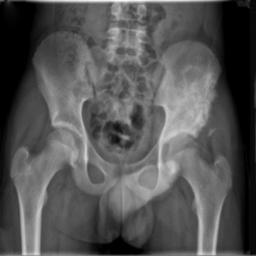cancer: (157, 67, 222, 145)
